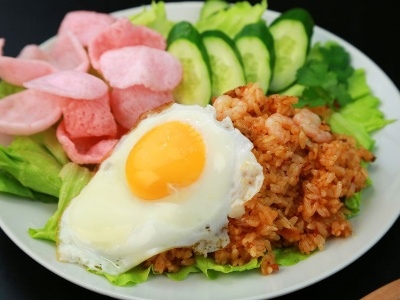nasigoreng: (87, 86, 357, 269)
